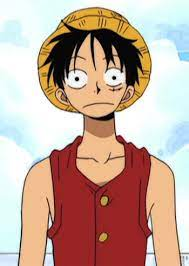Luffy: (42, 6, 152, 118)
